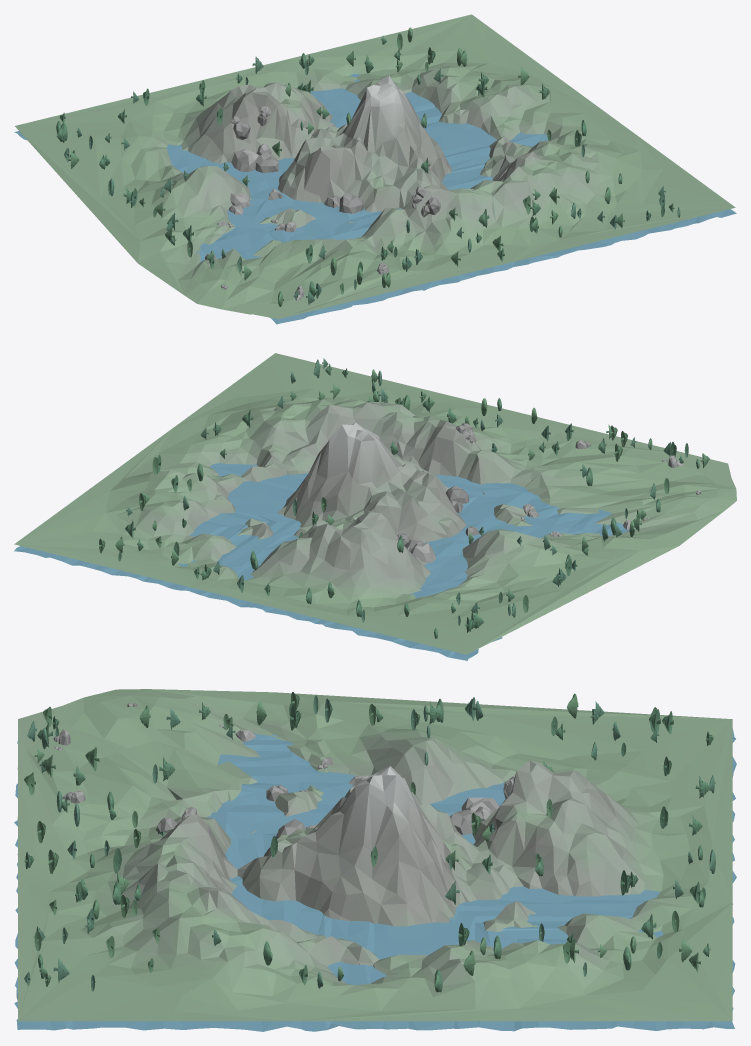
File: hills-lake-world.glb
3 renders of one model, top to bottom at view 1: azimuth 30°, elevation 25°; view 2: azimuth 150°, elevation 25°; view 3: azimuth 270°, elevation 25°, orthographic. The views are drawn at different scales.
Parts seen in each view (by area): view 1: HillsAndMountain, LakeSurface; view 2: HillsAndMountain, LakeSurface; view 3: HillsAndMountain, LakeSurface.
Boxes of the visible parts, x1=… form: HillsAndMountain: x1=15, y1=14, x2=735, y2=319; LakeSurface: x1=14, y1=73, x2=736, y2=324; HillsAndMountain: x1=14, y1=353, x2=736, y2=654; LakeSurface: x1=14, y1=463, x2=639, y2=660; HillsAndMountain: x1=18, y1=689, x2=732, y2=1021; LakeSurface: x1=14, y1=728, x2=736, y2=1031.
Bounding box in the file's own units: 305 × 57.77 × 278.
